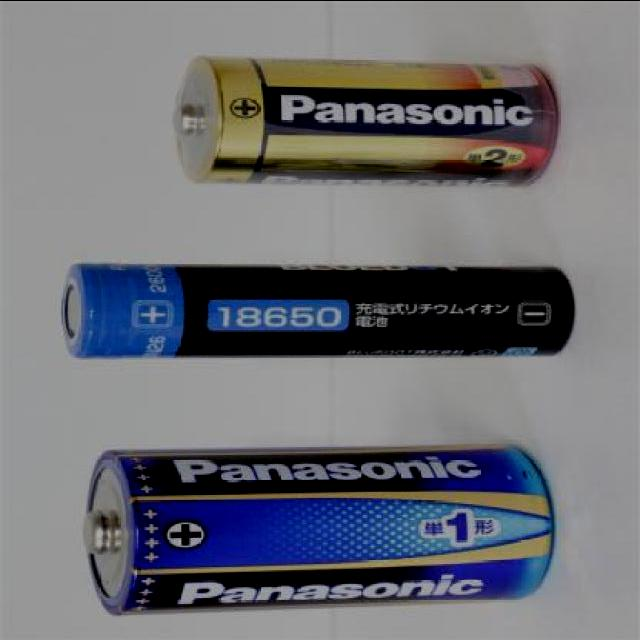AAA: (54, 252, 583, 360)
